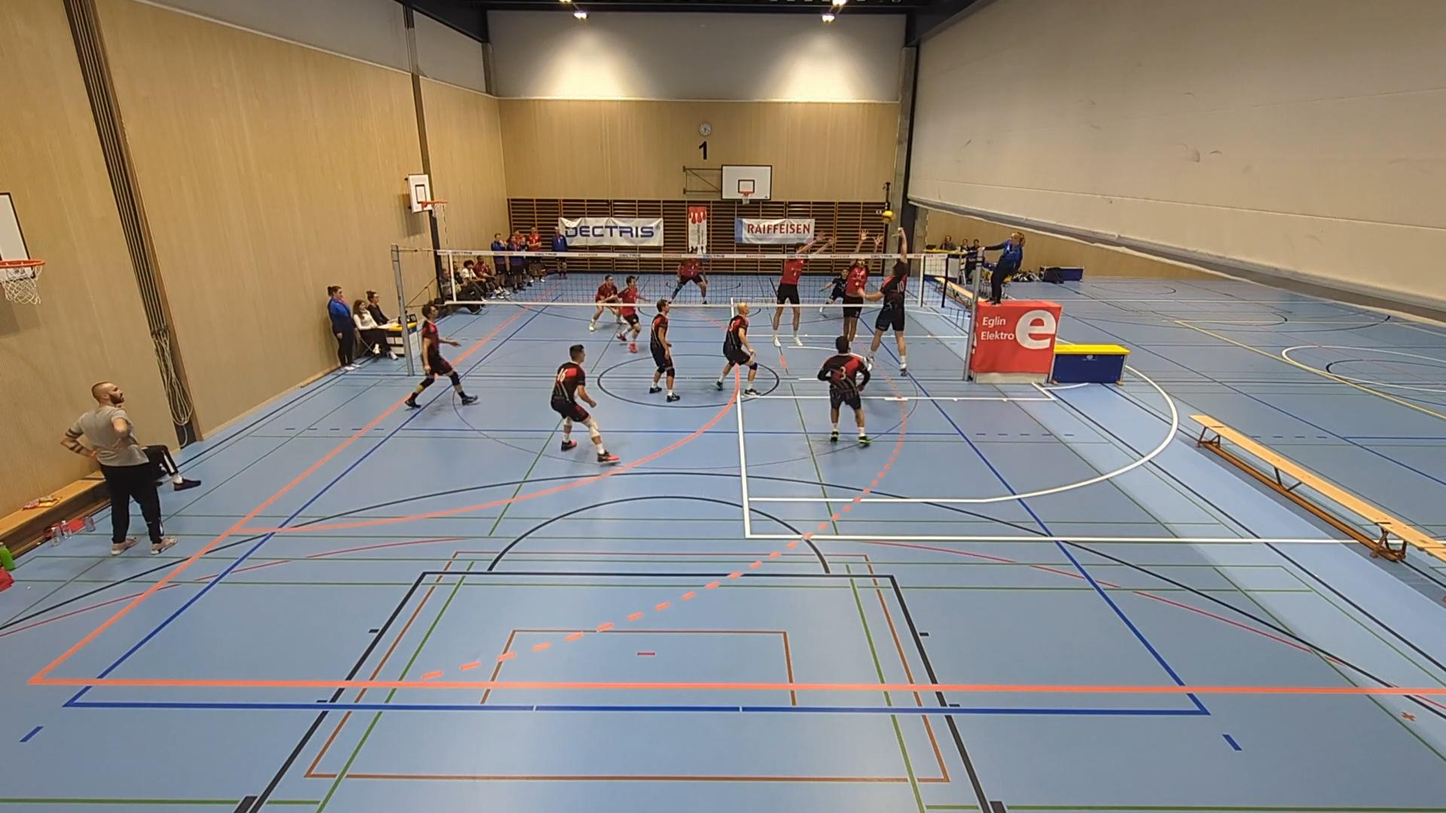Attack: (864, 263, 916, 368)
Block: (774, 227, 832, 349), (840, 208, 882, 352)
Player: (551, 344, 618, 464), (404, 304, 477, 408), (817, 336, 870, 445), (715, 303, 758, 395), (649, 299, 679, 402), (617, 276, 640, 352), (669, 257, 706, 304), (589, 275, 620, 330), (819, 269, 847, 314)
ball: (880, 207, 892, 222)
